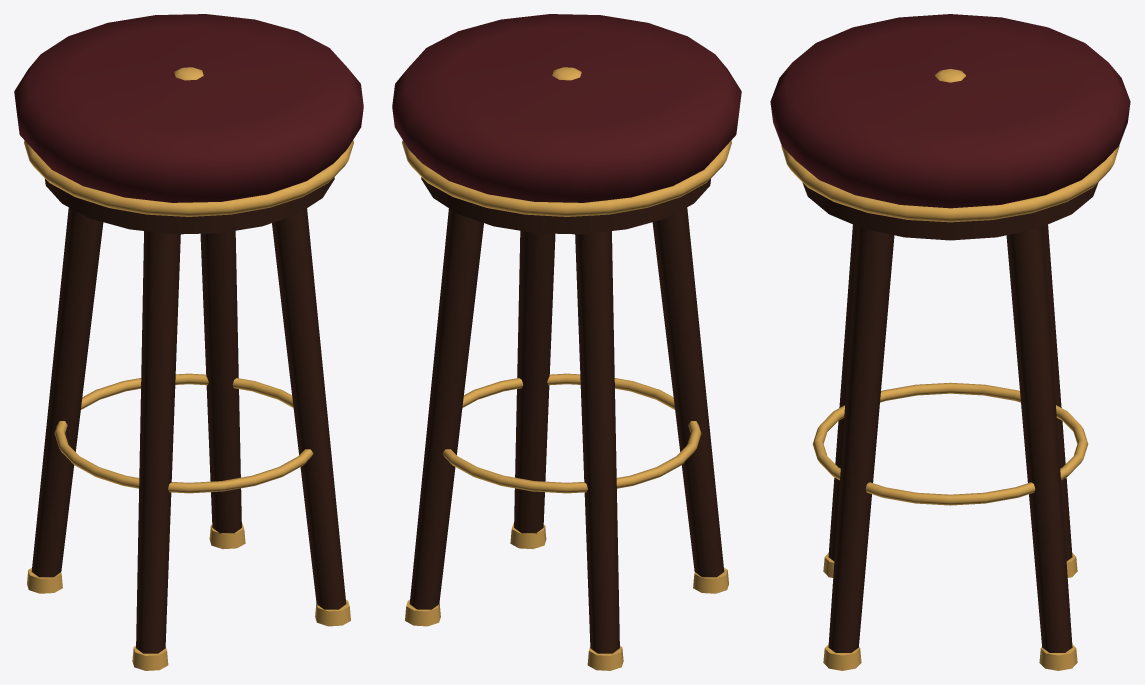
File: bar_stool.glb
3 views of the same model, side by side, from view 1: azimuth 30°, elevation 25°; view 2: azimuth 150°, elevation 25°; view 3: azimuth 270°, elevation 25° (orthographic). The views are drawn at different scales.
Parts seen in each view (by area): view 1: BarStool; view 2: BarStool; view 3: BarStool.
Boxes of the visible parts, x1,y1,x2,y2 form: BarStool: (14,14,363,670); BarStool: (392,14,741,670); BarStool: (770,14,1130,670).
Bounding box in the file's own units: 0.264 × 0.4421 × 0.264.
